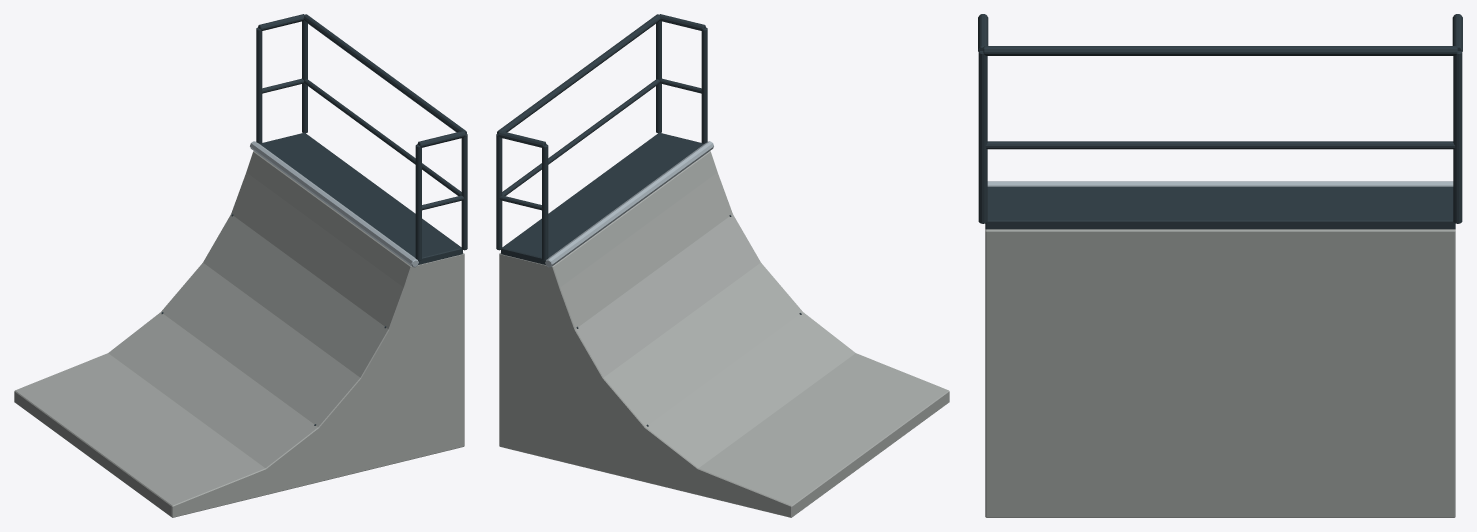
Rendered from b09_skate_quarter_pipe.glb.
3 views of the same model, side by side, from view 1: azimuth 30°, elevation 25°; view 2: azimuth 150°, elevation 25°; view 3: azimuth 270°, elevation 25° (orthographic). The views are drawn at different scales.
Visible parts, largest first — view 1: b09_skate_quarter_pipe; view 2: b09_skate_quarter_pipe; view 3: b09_skate_quarter_pipe.
Boxes of the visible parts, x1,y1,x2,y2 form: b09_skate_quarter_pipe: [14, 14, 467, 517]; b09_skate_quarter_pipe: [496, 14, 949, 517]; b09_skate_quarter_pipe: [978, 14, 1462, 517].
Bounding box in the file's own units: 2.51 × 2.58 × 2.41.
